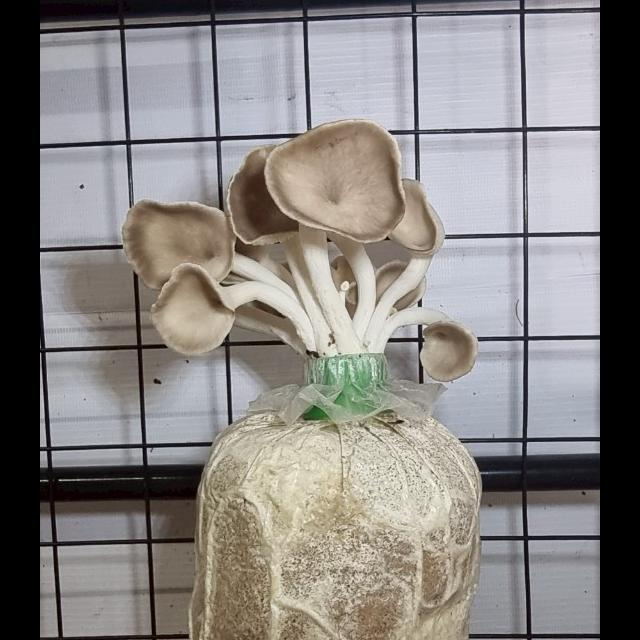normal: (267, 116, 417, 370), (109, 194, 321, 372)
